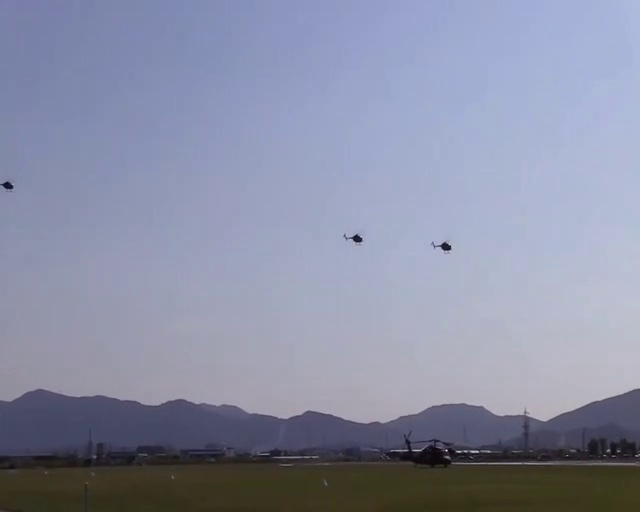HELICOPTER: (430, 239, 452, 252)
